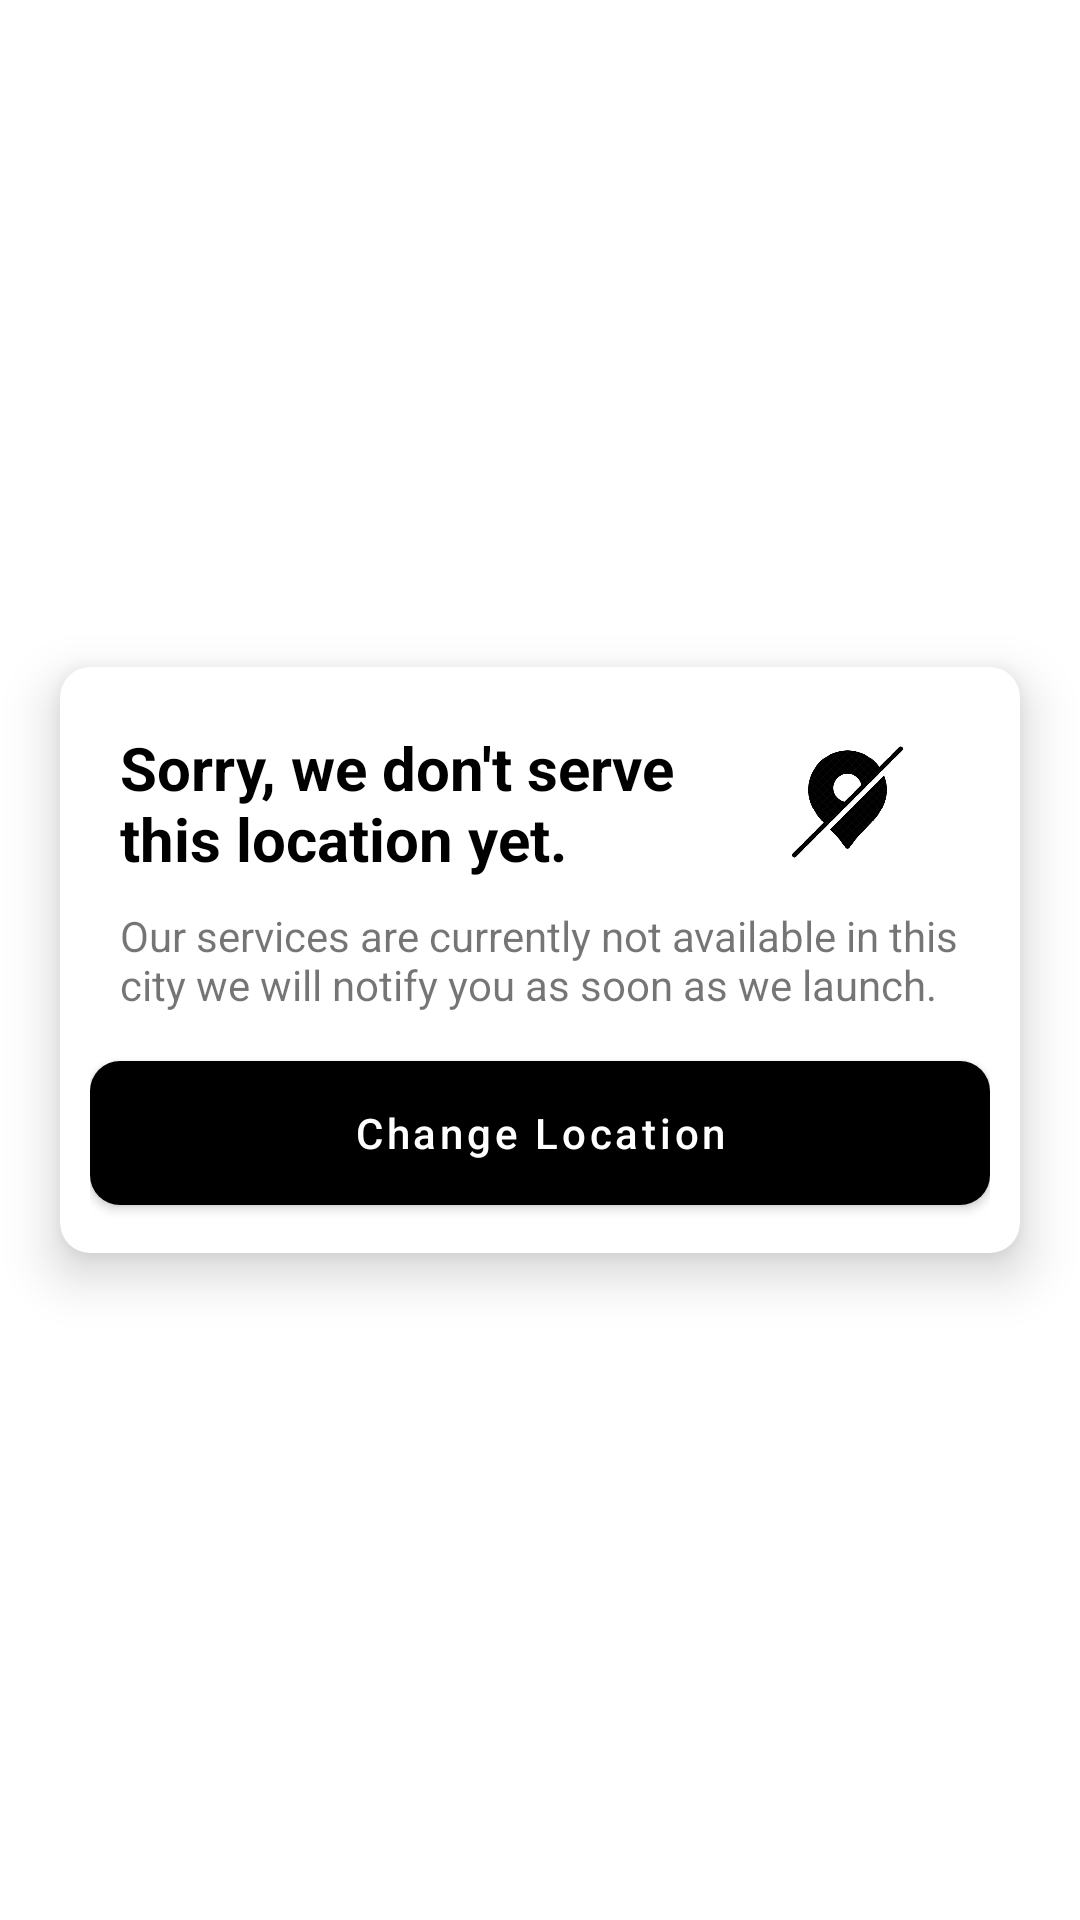

Icon bounding boxes for this 1080x1920 phone screenshot, format {"x1": x1, "y1": y1, "x2": x2, "y2": y2}:
nolocation: {"x1": 792, "y1": 746, "x2": 903, "y2": 858}
